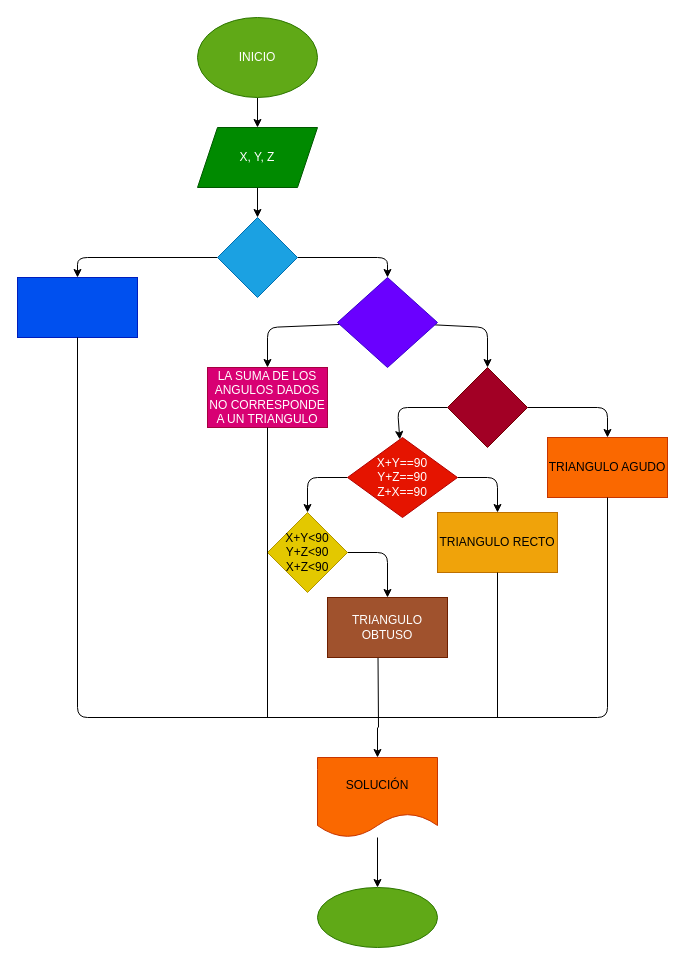
The diagram is 685 pixels wide and 965 high, and some of its shapes have lost their labels. Here are the shapes that lost their labels. From the top down, the centre of each, then its label:
the point at 257,257: X>0 Y>0 Z>0
the point at 77,307: INGRESAR SOLO NUMEROS NATURALES
the point at 387,322: X + Y +Z== 180
the point at 487,407: X +Y>90 Y+Z>90 Z+X>90
the point at 377,917: FIN
